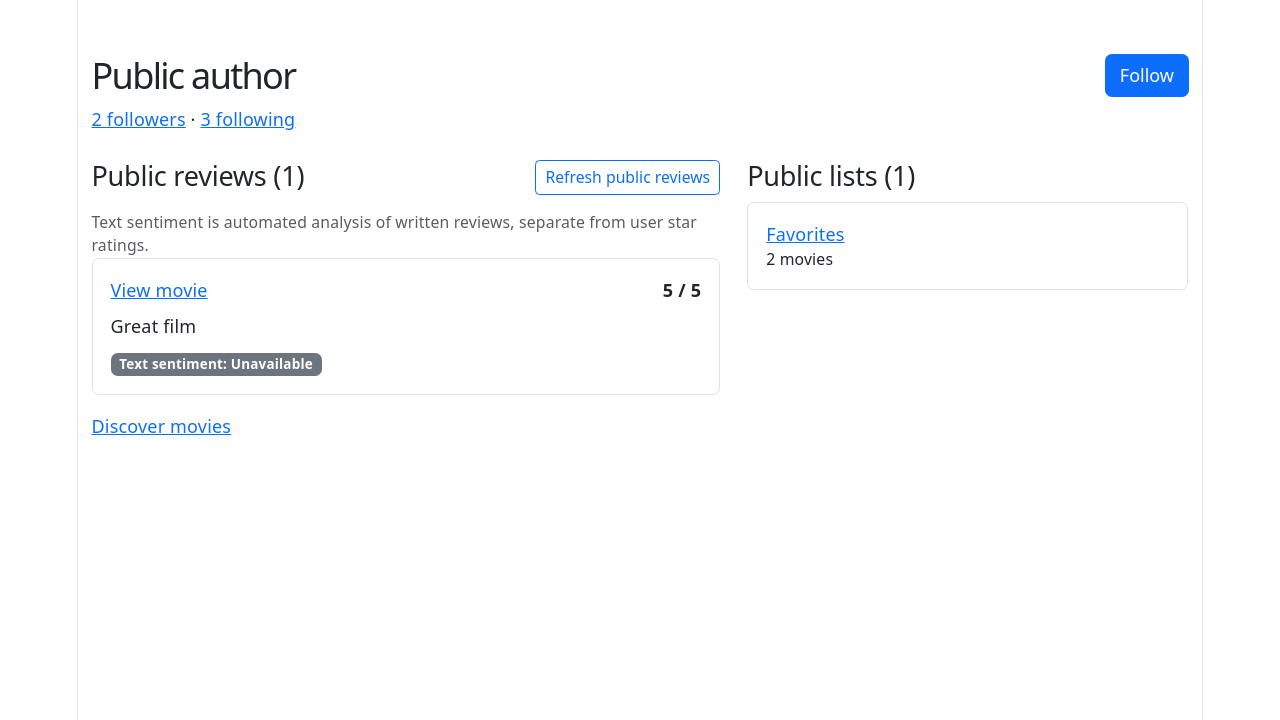
Test: persists follow and unfollow and uses the returned counts
The width and height of the screenshot is (1280, 720).
Step 1. Click the button "Follow" → x=1147, y=75, box [1105, 54, 1188, 96]
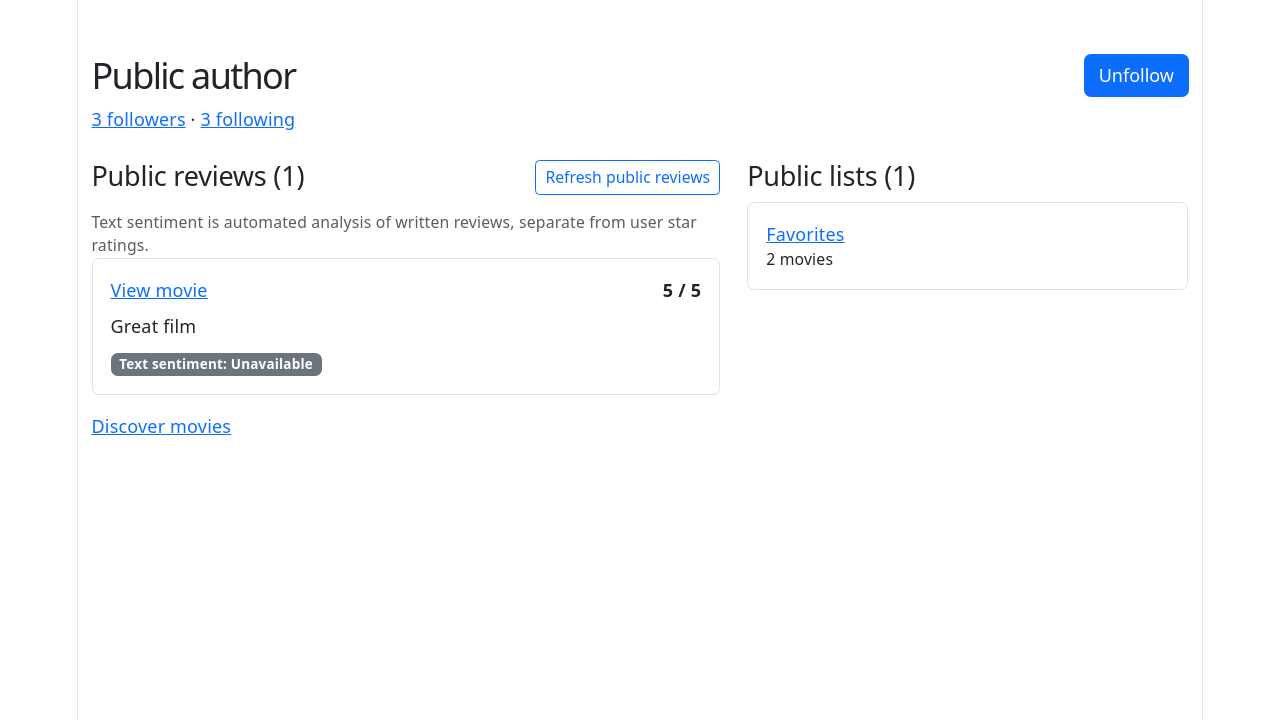
Expected: the link "3 following" is shown, [200, 107, 295, 131]
Expected: the link "3 followers" is shown, [92, 107, 186, 131]
Step 2. Click the button "Unfollow" → x=1136, y=75, box [1084, 54, 1188, 96]
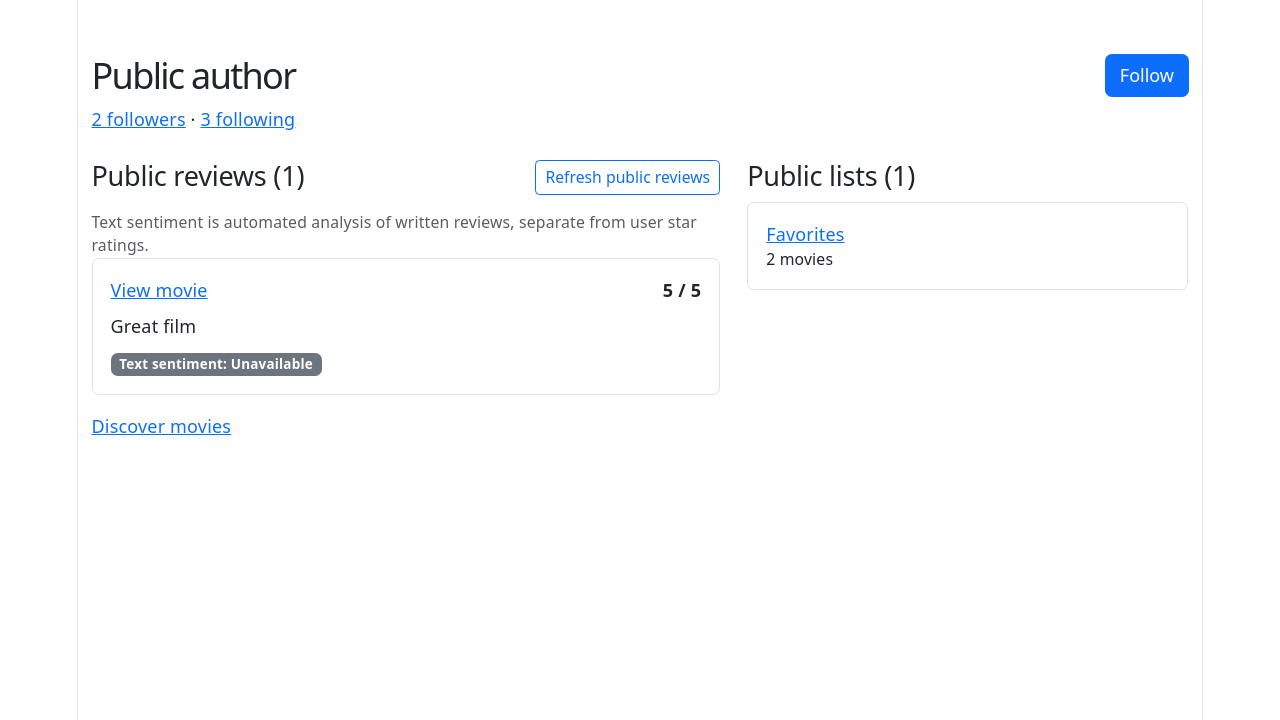
Expected: the link "3 following" is shown, [200, 107, 295, 131]
Expected: the link "2 followers" is shown, [92, 107, 186, 131]
